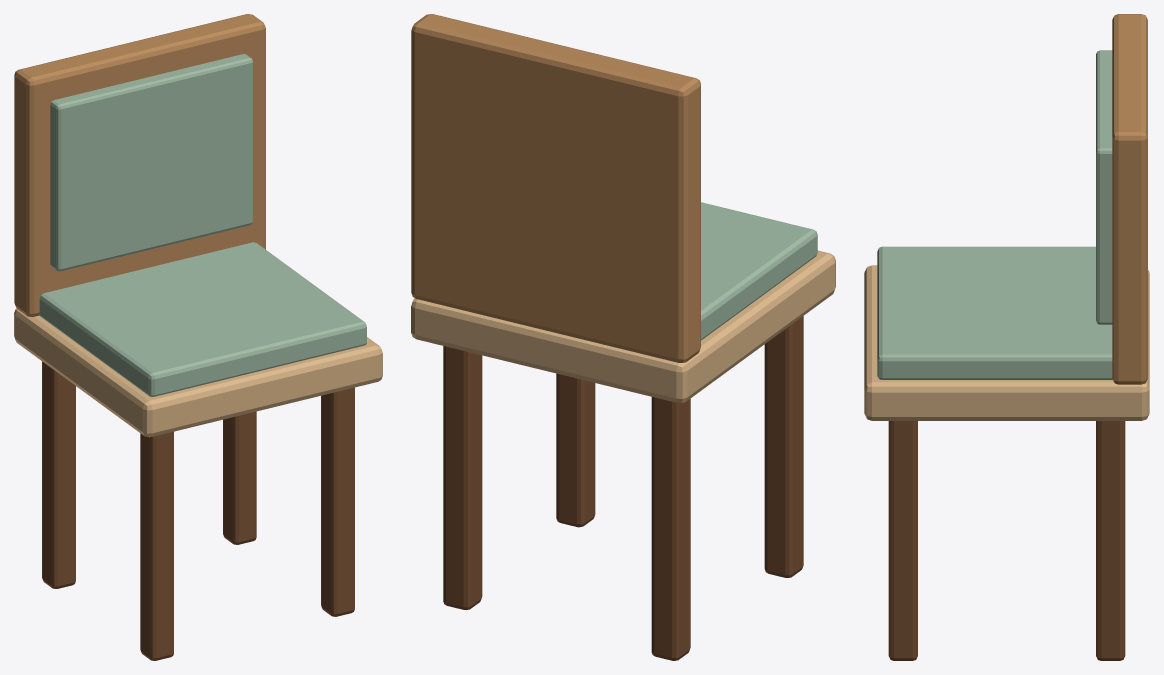
Rendered from chair.glb.
3 views of the same model, side by side, from view 1: azimuth 30°, elevation 25°; view 2: azimuth 150°, elevation 25°; view 3: azimuth 270°, elevation 25° (orthographic). The views are drawn at different scales.
Parts seen in each view (by area): view 1: Chair_Back_Cushion, Chair_Seat_Cushion, Chair_Back, Chair_Seat, Chair_Leg, Chair_Leg.002, Chair_Leg.001, Chair_Leg.003; view 2: Chair_Back, Chair_Seat, Chair_Leg.001, Chair_Leg.003, Chair_Leg, Chair_Seat_Cushion, Chair_Leg.002; view 3: Chair_Seat_Cushion, Chair_Seat, Chair_Back, Chair_Leg.002, Chair_Leg.003, Chair_Back_Cushion.
Boxes of the visible parts, x1=… form: Chair_Back_Cushion: x1=50, y1=54, x2=252, y2=271; Chair_Seat_Cushion: x1=39, y1=242, x2=366, y2=396; Chair_Back: x1=14, y1=14, x2=265, y2=316; Chair_Seat: x1=14, y1=308, x2=382, y2=437; Chair_Leg: x1=140, y1=431, x2=173, y2=660; Chair_Leg.002: x1=321, y1=387, x2=354, y2=616; Chair_Leg.001: x1=42, y1=361, x2=75, y2=588; Chair_Leg.003: x1=223, y1=411, x2=256, y2=544; Chair_Back: x1=411, y1=14, x2=700, y2=362; Chair_Seat: x1=411, y1=250, x2=835, y2=402; Chair_Leg.001: x1=651, y1=397, x2=690, y2=660; Chair_Leg.003: x1=443, y1=346, x2=482, y2=609; Chair_Leg: x1=764, y1=316, x2=803, y2=577; Chair_Seat_Cushion: x1=701, y1=202, x2=817, y2=340; Chair_Leg.002: x1=556, y1=373, x2=595, y2=527; Chair_Seat_Cushion: x1=877, y1=246, x2=1112, y2=379; Chair_Seat: x1=864, y1=265, x2=1149, y2=420; Chair_Back: x1=1112, y1=14, x2=1147, y2=384; Chair_Leg.002: x1=888, y1=421, x2=917, y2=660; Chair_Leg.003: x1=1096, y1=421, x2=1125, y2=660; Chair_Back_Cushion: x1=1096, y1=50, x2=1112, y2=324.
Bounding box in the file's own units: 0.45 × 0.915 × 0.44.
